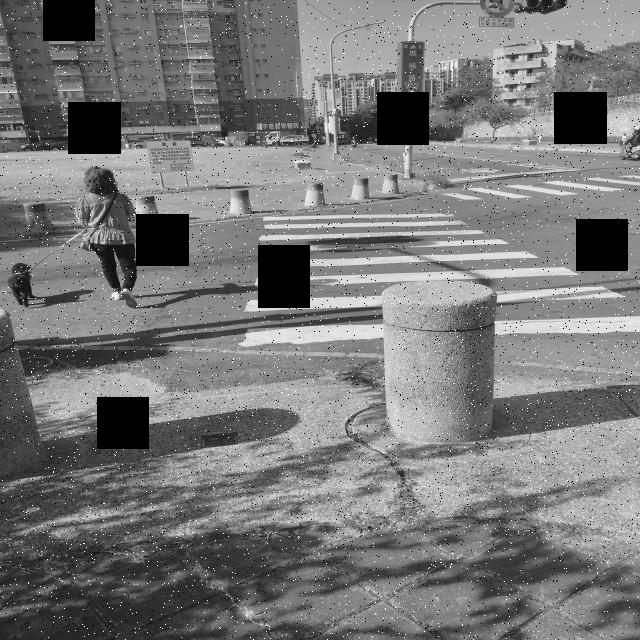person: (75, 166, 136, 304)
zebra crossing: (243, 215, 640, 354), (447, 176, 639, 208)
